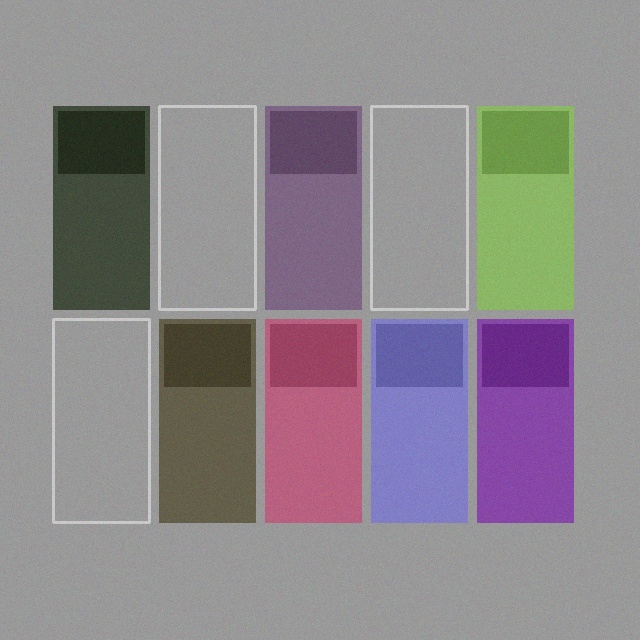space-empty: (159, 106, 255, 309), (371, 106, 467, 309), (53, 319, 149, 522)
space-occupied: (53, 106, 149, 309), (265, 106, 361, 309), (477, 106, 573, 309), (159, 319, 255, 522), (265, 319, 361, 522), (371, 319, 467, 522), (477, 319, 573, 522)
